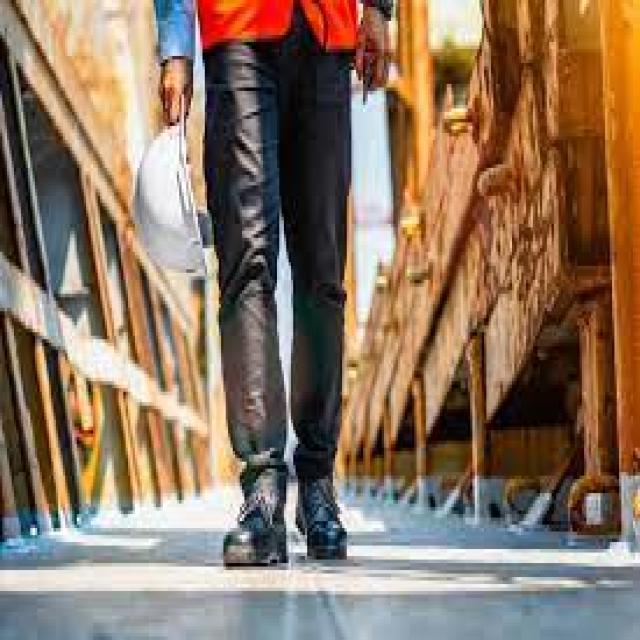shoes: (216, 475, 291, 568), (297, 485, 351, 559)
